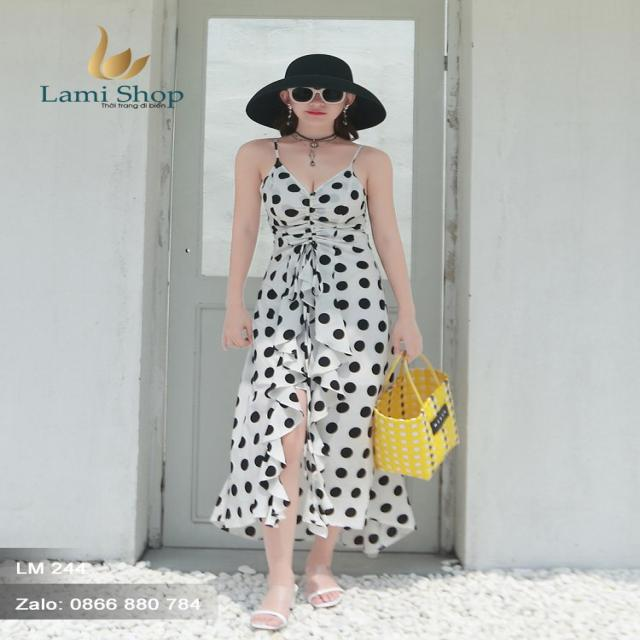clothes: (214, 133, 440, 552)
